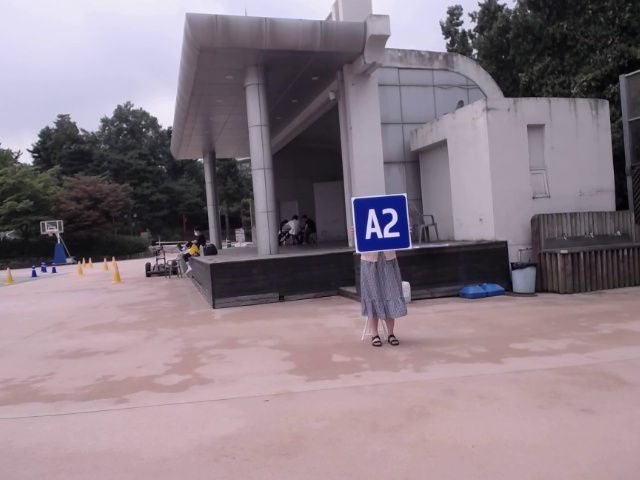delivery_a2: (352, 193, 411, 253)
